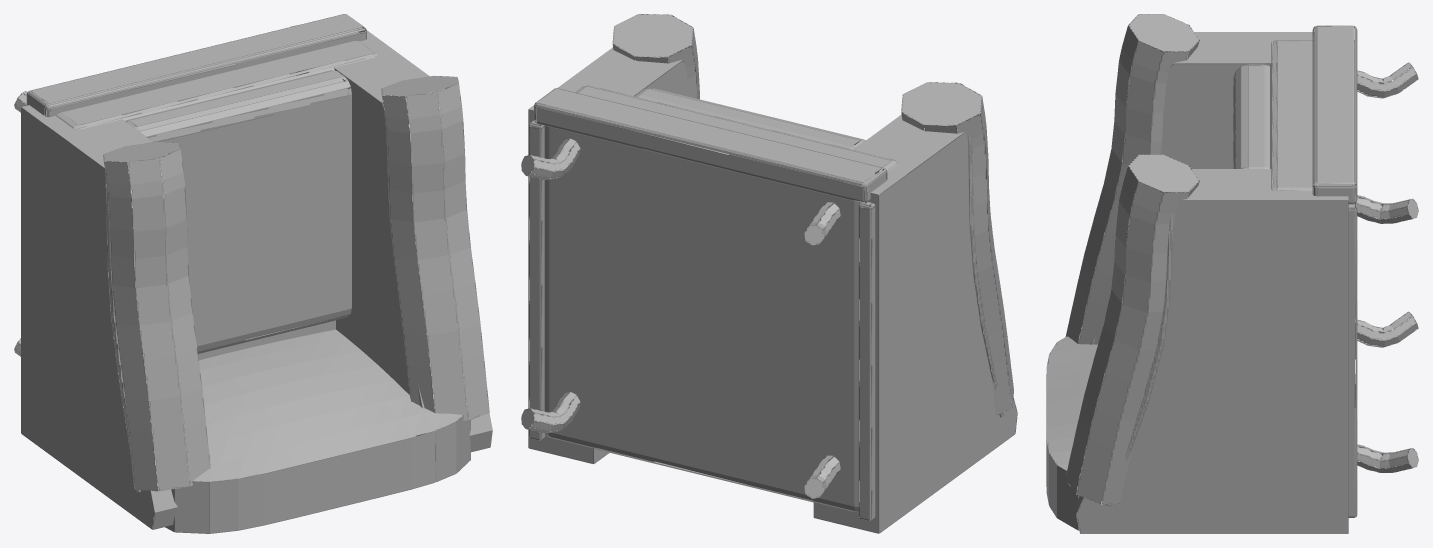
The model's file is pz_chair_seating_indoor_03_victorian_3.obj.
3 renders of one model, left to right at view 1: azimuth 30°, elevation 25°; view 2: azimuth 150°, elevation 25°; view 3: azimuth 270°, elevation 25°, orthographic. The views are drawn at different scales.
Parts seen in each view (by area): view 1: Victorian_3_|_rounded_seat_cushion_0, Victorian_3_|_closed_curved_padded_back, Victorian_3_|_closed_upholstered_side_-1, Victorian_3_|_EDITABLE_rolled_upholstered_arm_-1, Victorian_3_|_EDITABLE_rolled_upholstered_arm_1, Victorian_3_|_closed_upholstered_side_1, Victorian_3_|_native_front_wooden_apron, Victorian_3_|_closed_upholstered_base, Victorian_3_|_EDITABLE_outside_wood_trim_-1; view 2: Victorian_3_|_closed_upholstered_base, Victorian_3_|_closed_upholstered_side_-1, Victorian_3_|_native_front_wooden_apron, Victorian_3_|_EDITABLE_rolled_upholstered_arm_-1, Victorian_3_|_closed_upholstered_side_1, Victorian_3_|_wood_side_plinth_-0.443, Victorian_3_|_wood_side_plinth_0.443, Victorian_3_|_EDITABLE_rolled_upholstered_arm_1, Victorian_3_|_rounded_seat_cushion_0, Victorian_3_|_EDITABLE_curved_wood_leg_(0.35,_-0.3), Victorian_3_|_EDITABLE_curved_wood_leg_(0.35,_0.35), Victorian_3_|_EDITABLE_outside_wood_trim_-1 (+2 smaller); view 3: Victorian_3_|_closed_upholstered_side_1, Victorian_3_|_EDITABLE_rolled_upholstered_arm_1, Victorian_3_|_EDITABLE_rolled_upholstered_arm_-1, Victorian_3_|_closed_upholstered_side_-1, Victorian_3_|_native_front_wooden_apron, Victorian_3_|_closed_upholstered_base, Victorian_3_|_closed_curved_padded_back, Victorian_3_|_rounded_seat_cushion_0, Victorian_3_|_wood_side_plinth_0.443, Victorian_3_|_EDITABLE_outside_wood_trim_1, Victorian_3_|_EDITABLE_curved_wood_leg_(-0.35,_-0.3), Victorian_3_|_EDITABLE_curved_wood_leg_(-0.35,_0.35) (+2 smaller).
Part boxes in pixels (<box>): Victorian_3_|_rounded_seat_cushion_0: <box>125,70,352,353</box>; Victorian_3_|_closed_curved_padded_back: <box>150,329,470,533</box>; Victorian_3_|_closed_upholstered_side_-1: <box>21,103,214,529</box>; Victorian_3_|_EDITABLE_rolled_upholstered_arm_-1: <box>103,141,210,491</box>; Victorian_3_|_EDITABLE_rolled_upholstered_arm_1: <box>381,75,489,423</box>; Victorian_3_|_closed_upholstered_side_1: <box>296,30,492,460</box>; Victorian_3_|_native_front_wooden_apron: <box>26,14,366,117</box>; Victorian_3_|_closed_upholstered_base: <box>43,33,382,360</box>; Victorian_3_|_EDITABLE_outside_wood_trim_-1: <box>105,175,140,492</box>; Victorian_3_|_closed_upholstered_base: <box>544,85,901,512</box>; Victorian_3_|_closed_upholstered_side_-1: <box>813,114,1017,533</box>; Victorian_3_|_native_front_wooden_apron: <box>534,88,887,203</box>; Victorian_3_|_EDITABLE_rolled_upholstered_arm_-1: <box>901,82,1013,415</box>; Victorian_3_|_closed_upholstered_side_1: <box>528,46,697,464</box>; Victorian_3_|_wood_side_plinth_-0.443: <box>858,191,883,520</box>; Victorian_3_|_wood_side_plinth_0.443: <box>528,120,545,440</box>; Victorian_3_|_EDITABLE_rolled_upholstered_arm_1: <box>612,14,699,99</box>; Victorian_3_|_rounded_seat_cushion_0: <box>634,88,865,149</box>; Victorian_3_|_EDITABLE_curved_wood_leg_(0.35,_-0.3): <box>521,391,580,433</box>; Victorian_3_|_EDITABLE_curved_wood_leg_(0.35,_0.35): <box>521,138,580,180</box>; Victorian_3_|_EDITABLE_outside_wood_trim_-1: <box>967,136,1004,417</box>; Victorian_3_|_closed_upholstered_side_1: <box>1076,169,1348,533</box>; Victorian_3_|_EDITABLE_rolled_upholstered_arm_1: <box>1065,154,1199,504</box>; Victorian_3_|_EDITABLE_rolled_upholstered_arm_-1: <box>1065,14,1199,344</box>; Victorian_3_|_closed_upholstered_side_-1: <box>1090,32,1314,344</box>; Victorian_3_|_native_front_wooden_apron: <box>1312,25,1357,204</box>; Victorian_3_|_closed_upholstered_base: <box>1267,40,1352,209</box>; Victorian_3_|_closed_curved_padded_back: <box>1046,332,1097,530</box>; Victorian_3_|_rounded_seat_cushion_0: <box>1233,64,1277,168</box>; Victorian_3_|_wood_side_plinth_0.443: <box>1348,203,1357,517</box>; Victorian_3_|_EDITABLE_outside_wood_trim_1: <box>1105,213,1173,506</box>; Victorian_3_|_EDITABLE_curved_wood_leg_(-0.35,_-0.3): <box>1355,311,1418,347</box>; Victorian_3_|_EDITABLE_curved_wood_leg_(-0.35,_0.35): <box>1357,62,1418,98</box>.
Size of the model in its own units: 0.985 by 0.9452 by 0.8804.
1 material, 1 textured.
